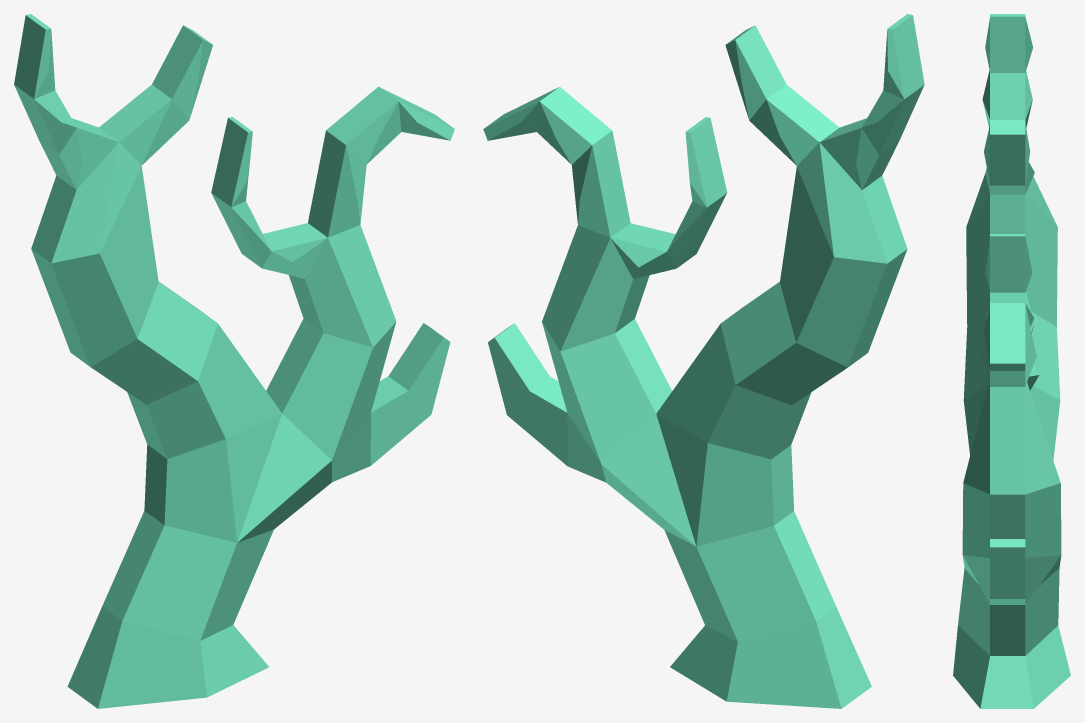
The model's file is coral 1.fbx.
3 renders of one model, left to right at view 1: azimuth 30°, elevation 25°; view 2: azimuth 150°, elevation 25°; view 3: azimuth 270°, elevation 25°, orthographic. The views are drawn at different scales.
Visible parts, largest first — view 1: Plane004; view 2: Plane004; view 3: Plane004.
Boxes of the visible parts, bbox=[...] form: Plane004: bbox=[14, 14, 454, 708]; Plane004: bbox=[483, 14, 924, 708]; Plane004: bbox=[953, 14, 1070, 708].
Bounding box in the file's own units: 4.43 × 6.9 × 1.23.
Materials: 1 (1 with a texture image).
